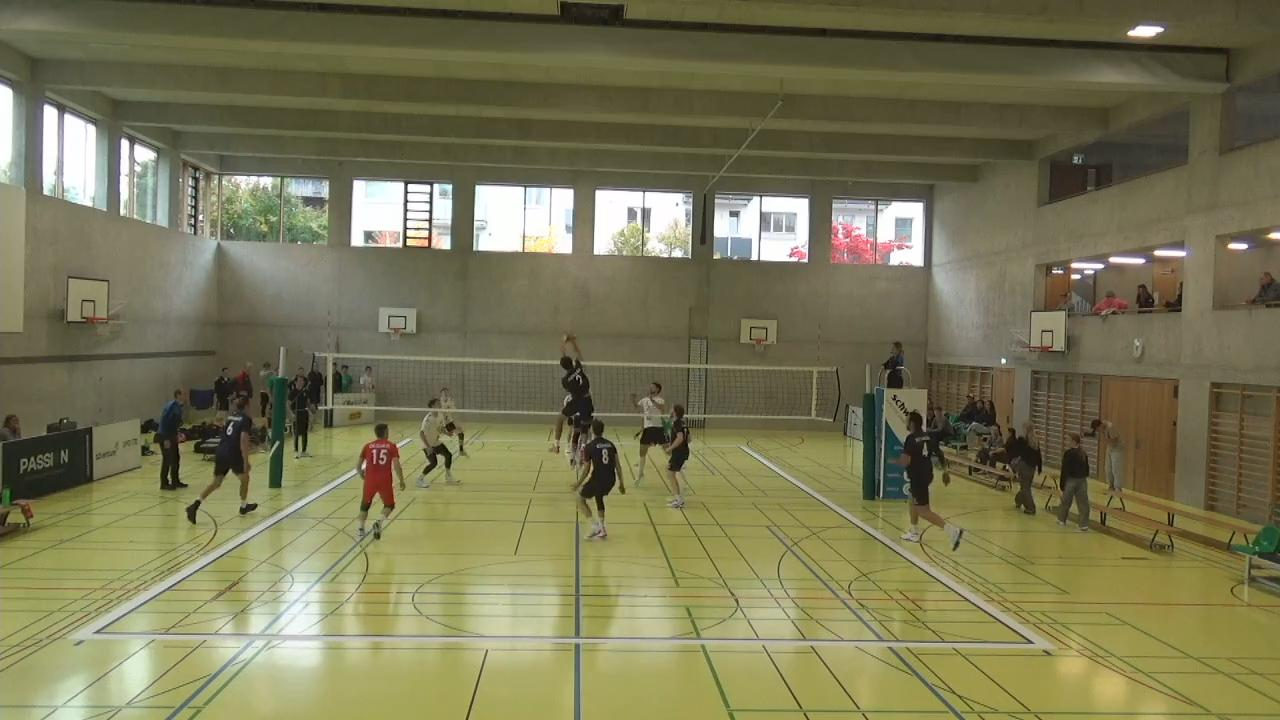Attack: (545, 330, 596, 465)
Player: (895, 409, 967, 550), (184, 395, 257, 526), (355, 421, 405, 539), (575, 420, 621, 540), (662, 403, 696, 508), (413, 412, 457, 488), (635, 383, 667, 479), (433, 386, 471, 456), (555, 384, 587, 465), (417, 388, 448, 462)
ball: (558, 330, 578, 347)
